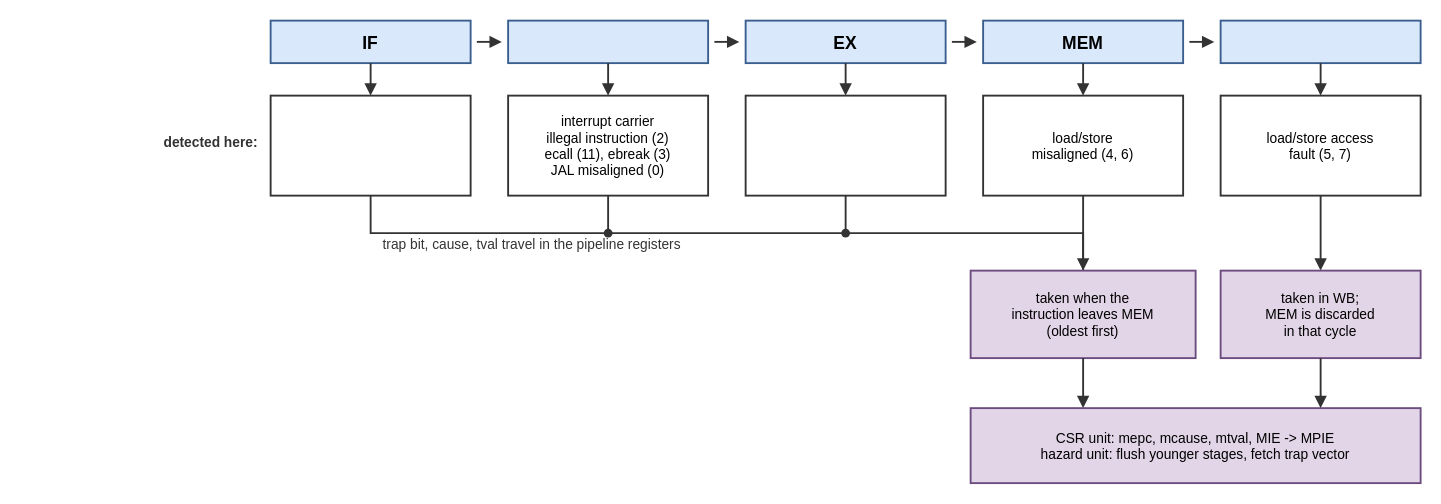
This 1441x504 diagram has some shape labels left out. Each missing label, with the centre of its shape:
"branch/JALR target misaligned (0)" goes at pixel 845 145.
"ID" goes at pixel 607 41.
"instruction access fault (cause 1)" goes at pixel 370 145.
"WB" goes at pixel 1320 41.
